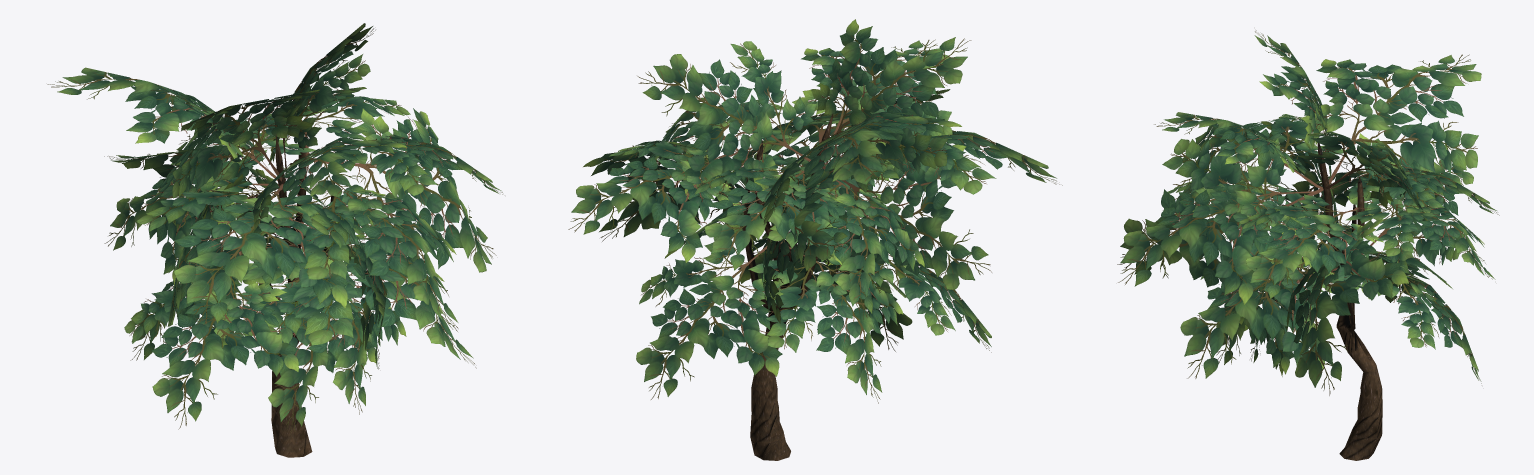
The model's file is Small Tree.FBX.
3 views of the same model, side by side, from view 1: azimuth 30°, elevation 25°; view 2: azimuth 150°, elevation 25°; view 3: azimuth 270°, elevation 25° (orthographic). The views are drawn at different scales.
Visible parts, largest first — view 1: Plane053, Plane069, Plane073, Plane065, Plane064, Plane068, Plane055, Plane060, Plane054, Plane056, Plane070, Plane067 (+8 smaller); view 2: Plane067, Plane061, Plane068, Plane057, Plane062, Plane066, Plane052, Plane056, Plane055, Tree 3, Plane063, Plane053 (+8 smaller); view 3: Plane055, Plane073, Plane065, Plane074, Plane058, Plane064, Tree 3, Plane057, Plane063, Plane067, Plane061, Plane054 (+8 smaller).
Part boxes in pixels (<box>): Plane053: <box>136,174,349,325</box>; Plane069: <box>124,251,298,429</box>; Plane073: <box>273,188,458,331</box>; Plane065: <box>311,108,496,302</box>; Plane064: <box>242,234,476,368</box>; Plane068: <box>172,89,319,205</box>; Plane055: <box>47,67,277,179</box>; Plane060: <box>265,260,406,414</box>; Plane054: <box>250,137,407,232</box>; Plane056: <box>104,149,278,286</box>; Plane070: <box>214,245,377,436</box>; Plane067: <box>268,23,375,181</box>; Plane067: <box>637,41,816,199</box>; Plane061: <box>636,236,783,399</box>; Plane068: <box>811,19,971,192</box>; Plane057: <box>568,140,740,262</box>; Plane062: <box>748,241,903,403</box>; Plane066: <box>822,141,991,293</box>; Plane052: <box>693,154,847,270</box>; Plane056: <box>767,168,924,319</box>; Plane055: <box>761,112,961,224</box>; Tree 3: <box>742,114,833,460</box>; Plane063: <box>760,158,853,323</box>; Plane053: <box>824,130,1062,194</box>; Plane055: <box>1301,54,1481,204</box>; Plane073: <box>1118,167,1323,304</box>; Plane065: <box>1284,208,1408,395</box>; Plane074: <box>1117,138,1322,331</box>; Plane058: <box>1239,194,1384,299</box>; Plane064: <box>1180,235,1338,378</box>; Tree 3: <box>1317,143,1382,460</box>; Plane057: <box>1345,204,1495,279</box>; Plane063: <box>1346,133,1473,286</box>; Plane067: <box>1296,131,1430,226</box>; Plane061: <box>1375,275,1481,383</box>; Plane054: <box>1154,112,1321,187</box>.
Size of the model in its own units: 544 by 522 by 512.
